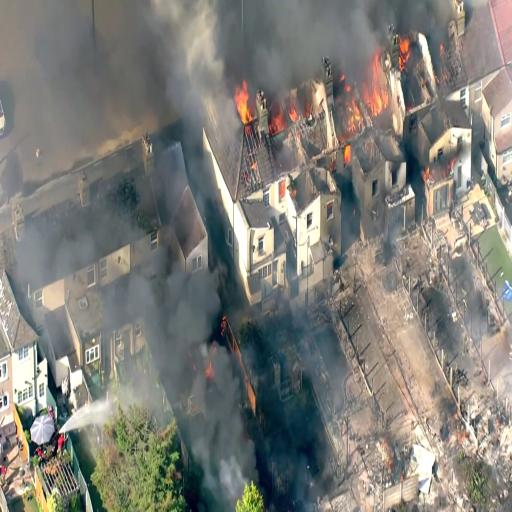fire: (331, 58, 393, 138), (255, 108, 298, 144), (228, 83, 252, 130)
smoke: (162, 0, 286, 86), (188, 358, 246, 494), (143, 276, 210, 351)
